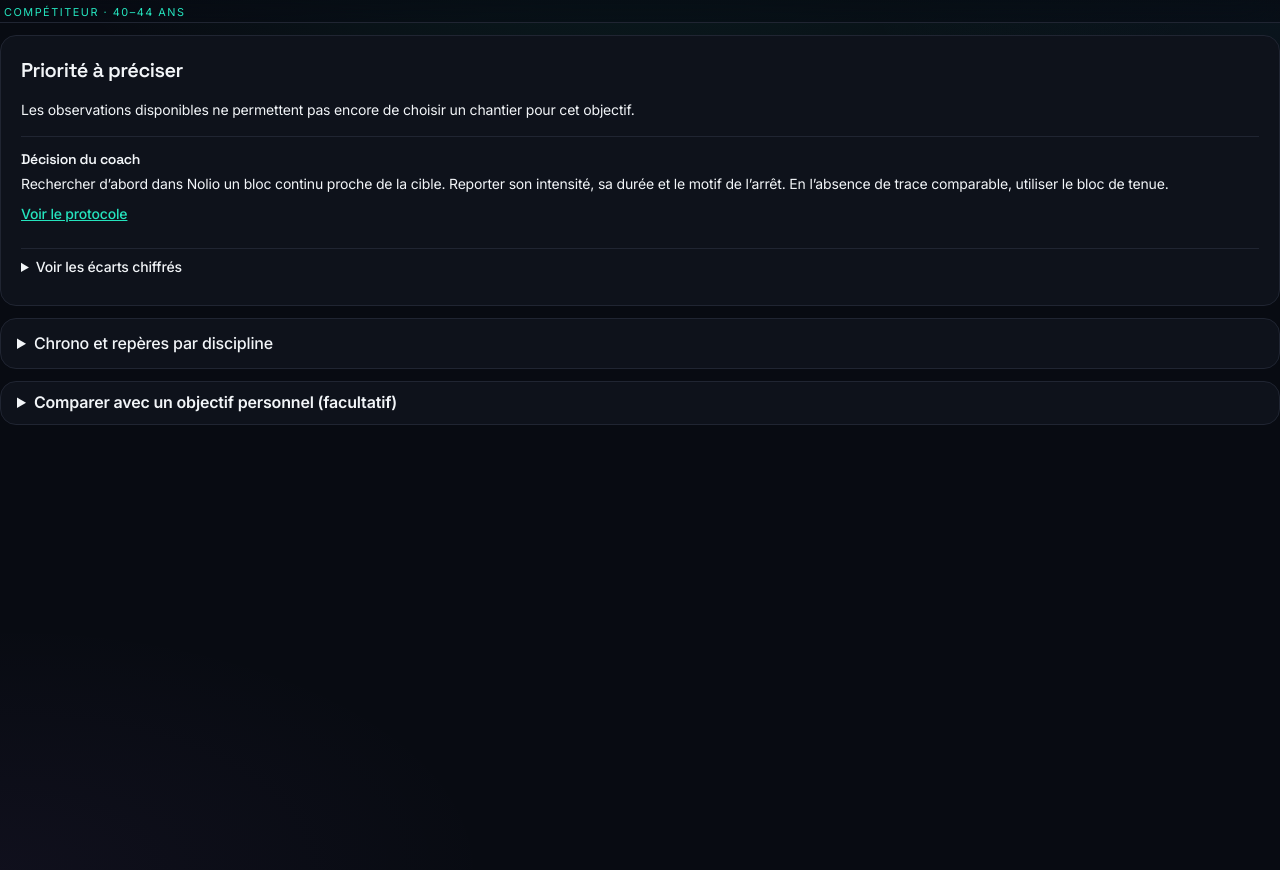
Test: shows a triathlete’s actual markers before the detailed form even without a ranked limiter
Click the heading "Chrono et repères par discipline". click: (153, 343)
box: [34,333,273,353]
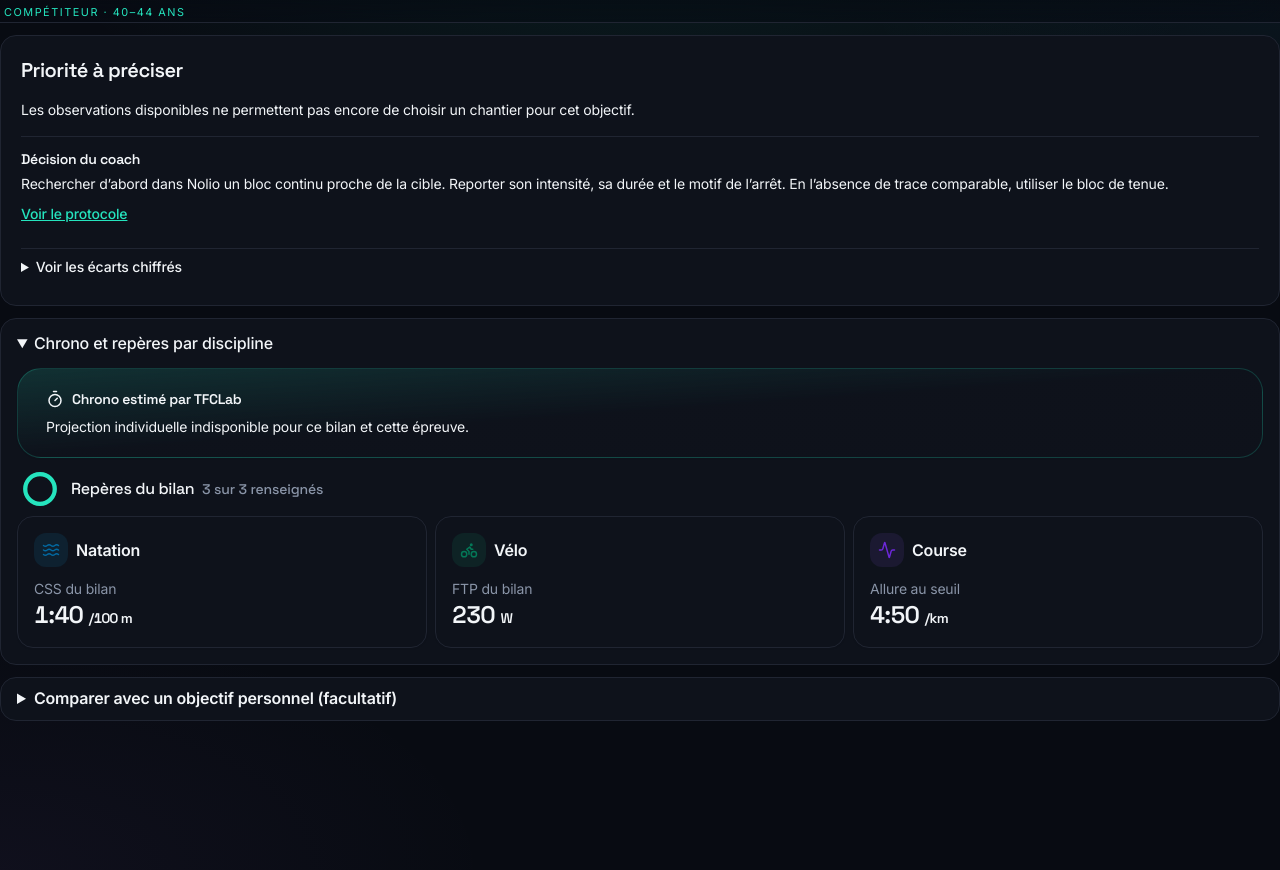
Now the element "Vélo" shows "230", box [452,599,495,630]
Now the element "Natation" shows "1:40", box [34,599,83,630]
Now the element named "Projection de course" is shown, box [17,368,1263,458]
Click the heading "Comparer avec un objectif personnel (facultatif)". click: (215, 698)
box: [34,688,397,708]
(page scrolled)
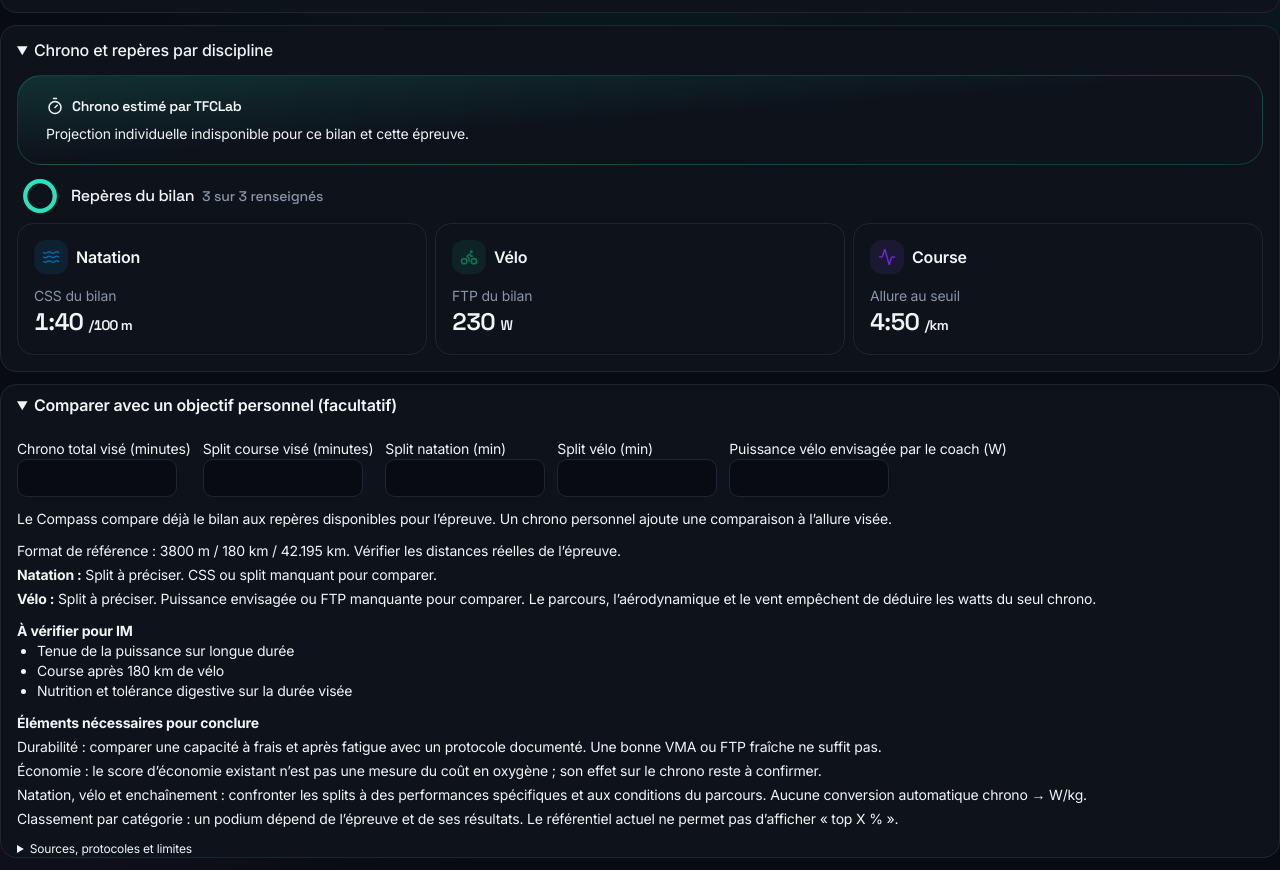
Now the text "Comparer avec un objectif personnel (facultatif)" has attribute open, box [0,384,1279,858]
